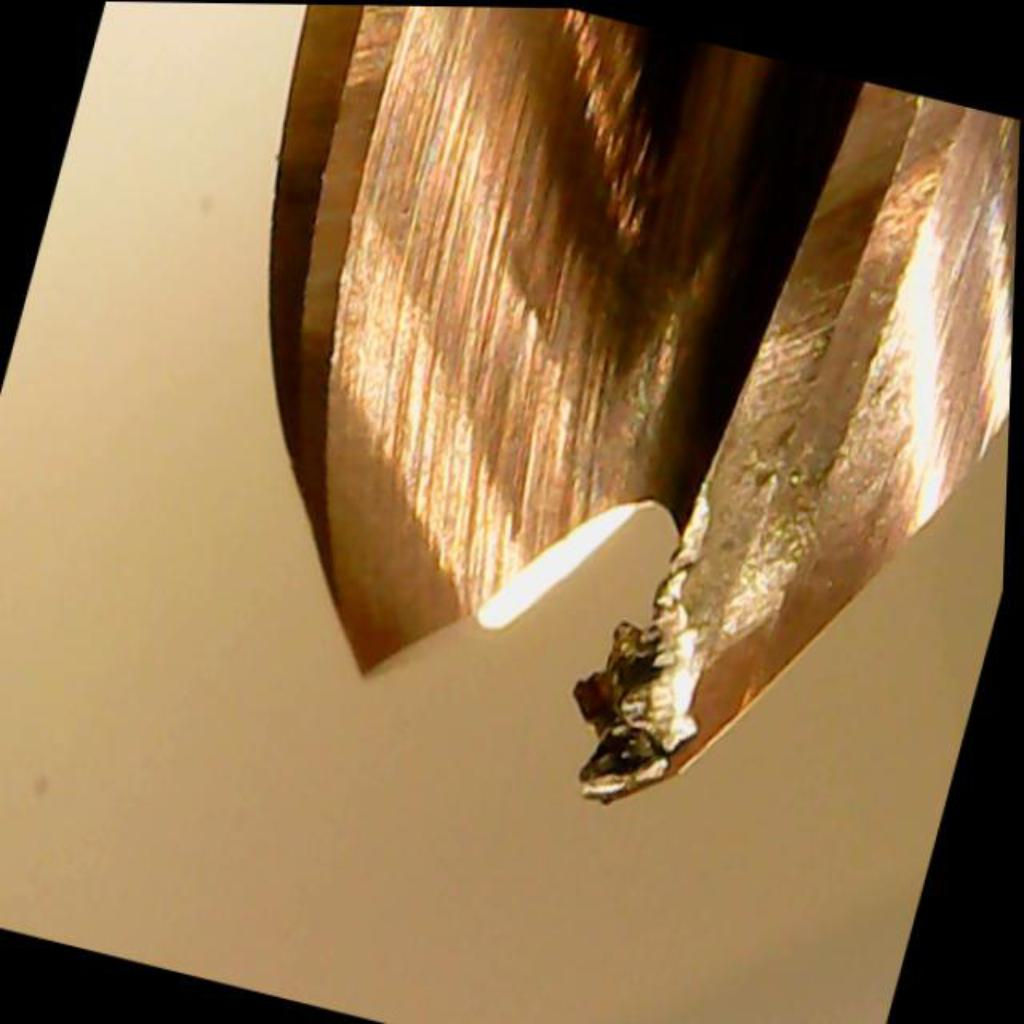Tool-wear-class-2: (533, 321, 889, 851)
